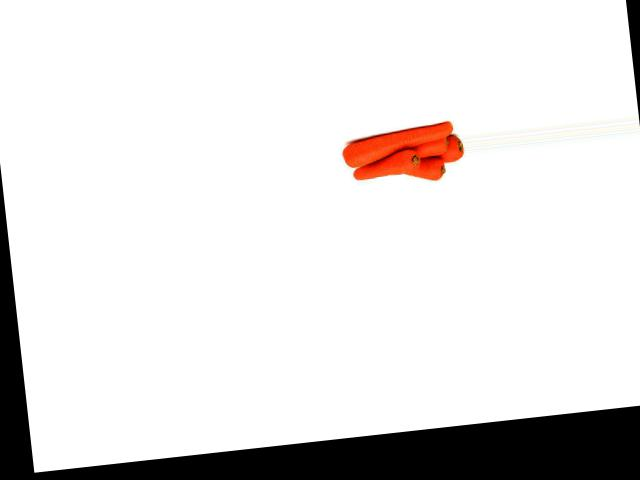carrot: (398, 153, 447, 182)
